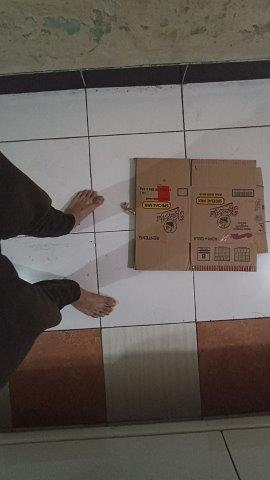kardus: (135, 159, 268, 271)
